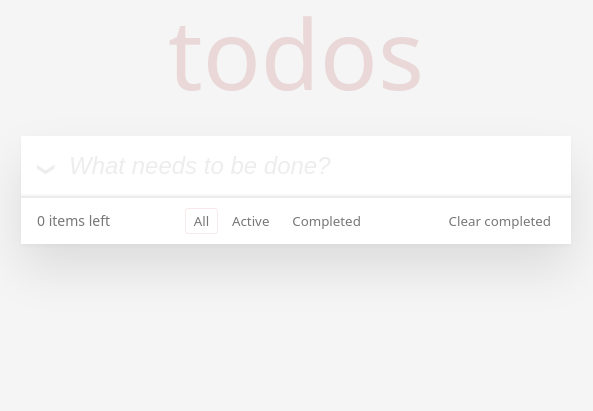
Scenario: TodoApp Integration › filters and clears todos
Type "Active todo" into the field with placeholder "What needs to be done?" at (296, 166), box [21,136,571,196]
Submit the form from the field with placeholder "What needs to be done?", box [21,136,571,196]
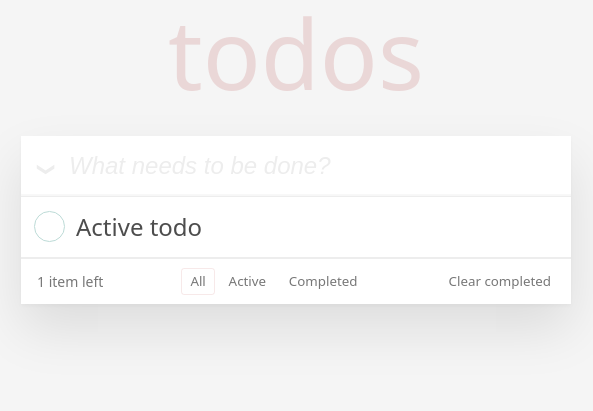
Type "Completed todo" into the field with placeholder "What needs to be done?" at (296, 166), box [21,136,571,196]
Submit the form from the field with placeholder "What needs to be done?", box [21,136,571,196]
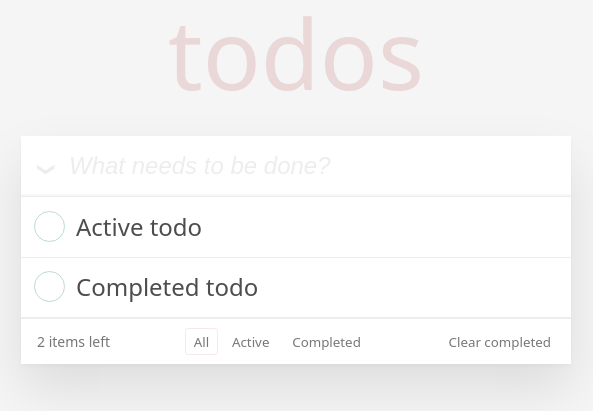
Click the checkbox next to "Completed todo" at (48, 287), box [34,271,63,303]
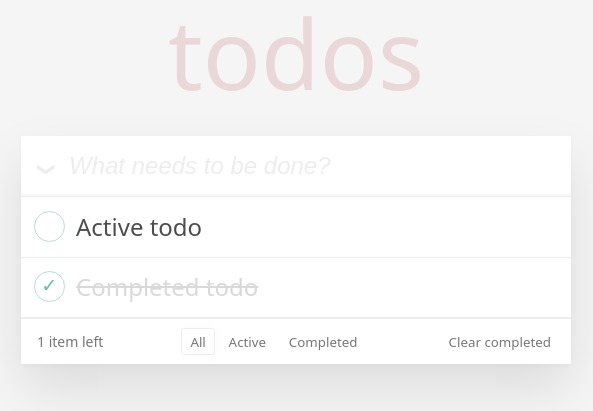
# Test filters
Click the button "Active" at (247, 342), box [220,328,275,355]
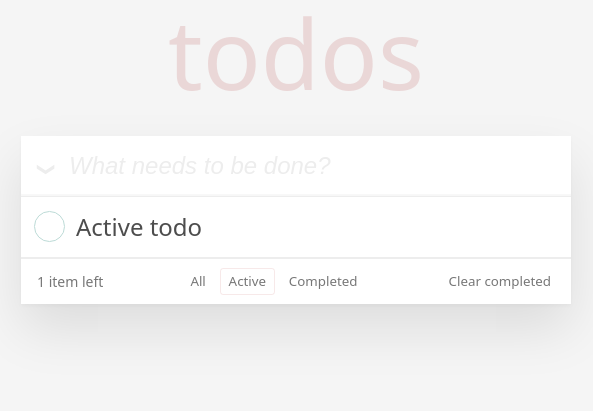
Check: the text "Active todo" is shown, box [76,210,202,243]
Check: the text "Completed todo" is gone
Click the button "Completed" at (323, 281), box [280,268,366,295]
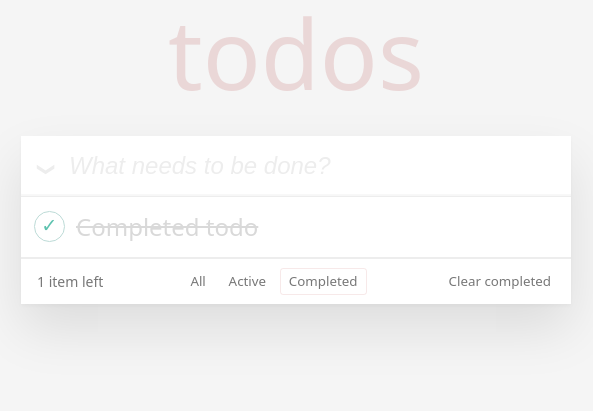
Check: the text "Active todo" is gone
Check: the text "Completed todo" is shown, box [76,210,258,243]
# Clear completed
Click the button "Clear completed" at (500, 281), box [445,268,555,294]
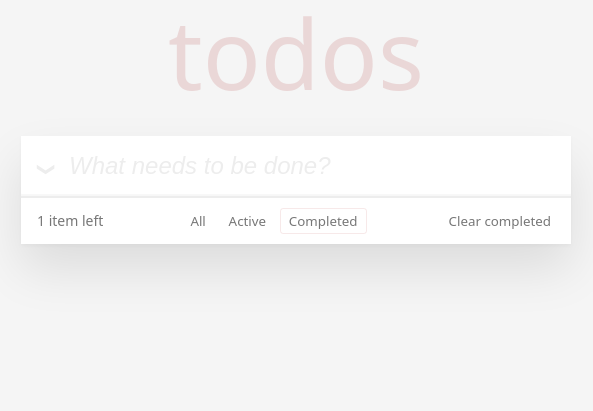
Check: the text "Completed todo" is gone
